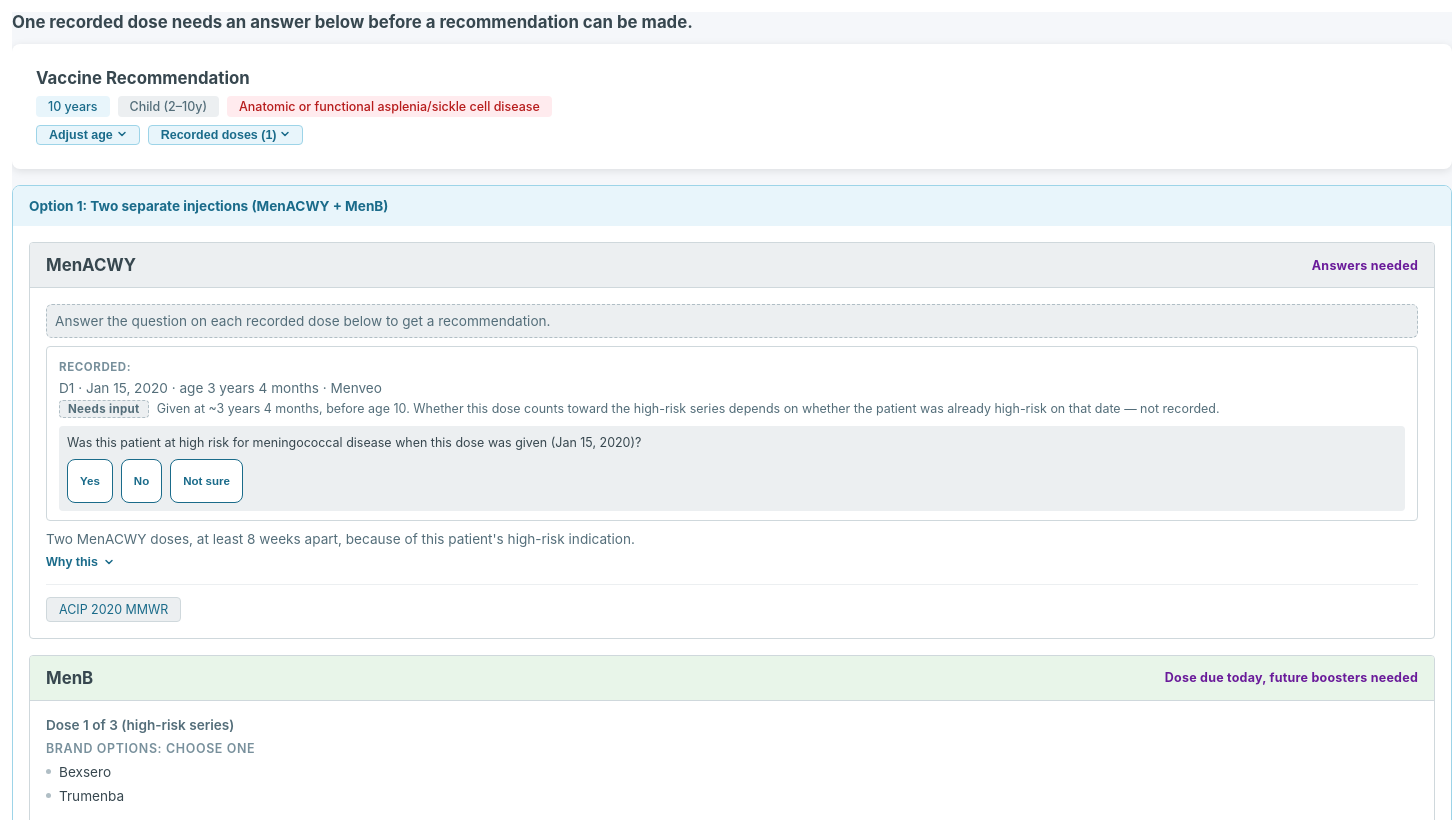
Risk-at-dose "Needs input" prompt updates live › answering "Yes" on an ambiguous high-risk dose resolves the chip to "Dose 1 of 2" and updates the dose count
The width and height of the screenshot is (1452, 820).
expect the text "Needs input" is shown: met, box [59, 400, 149, 418]
expect the text "Dose 1 of 2" is not shown: met
Click the button "Yes" at x=90, y=482, box [67, 460, 113, 504]
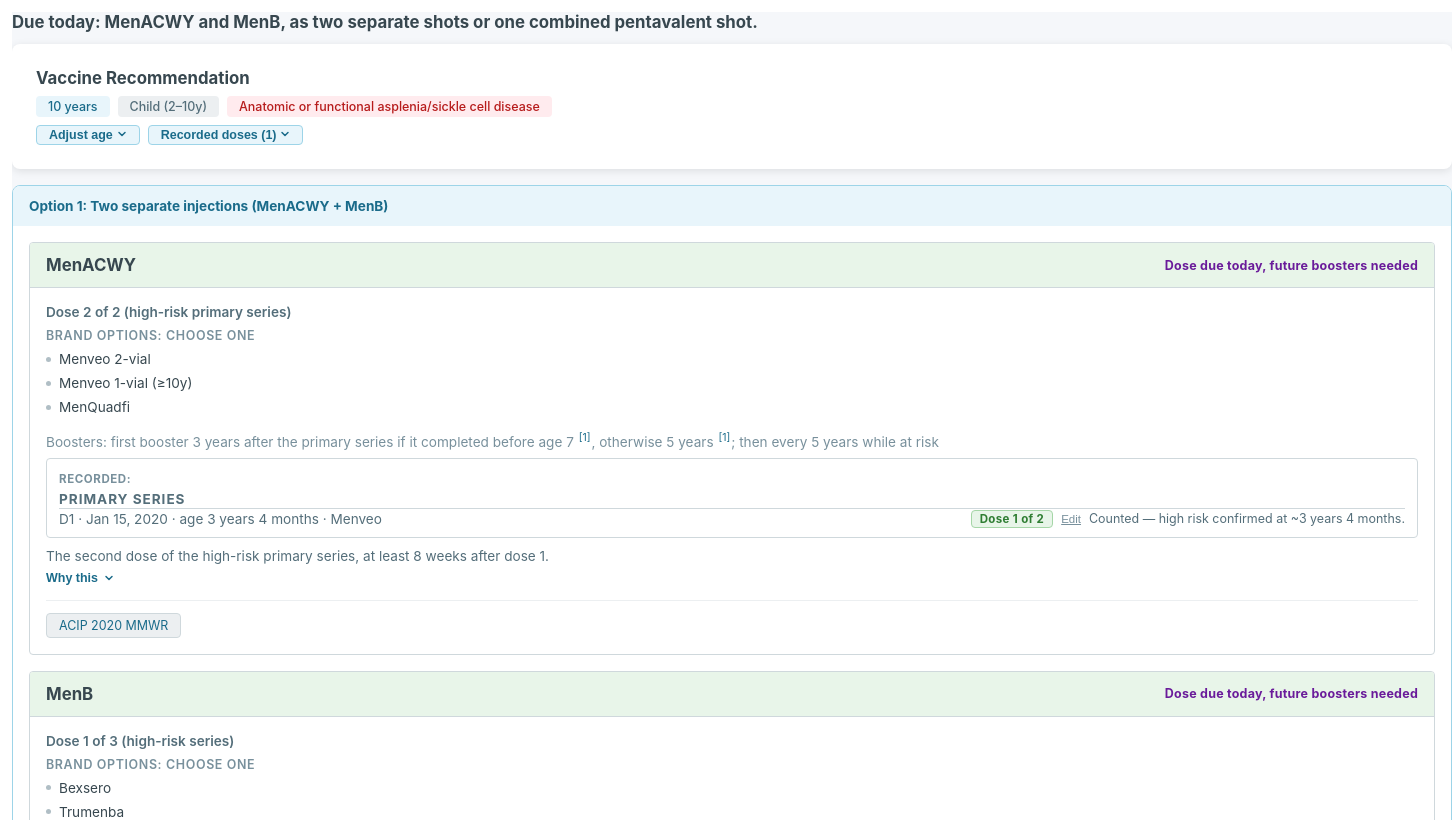
expect the text "Needs input" is not shown: met
expect the text "Dose 1 of 2" is shown: met, box [971, 510, 1053, 528]
